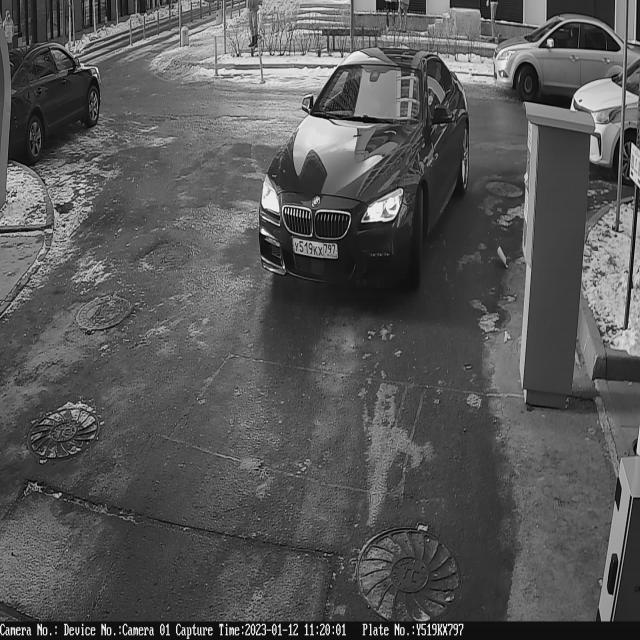car-plate-numbers: (287, 234, 341, 264)
